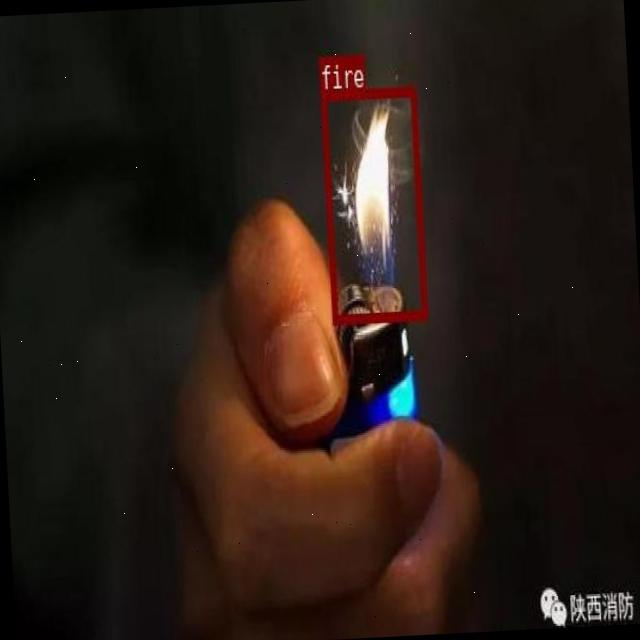fire: (321, 86, 426, 324)
